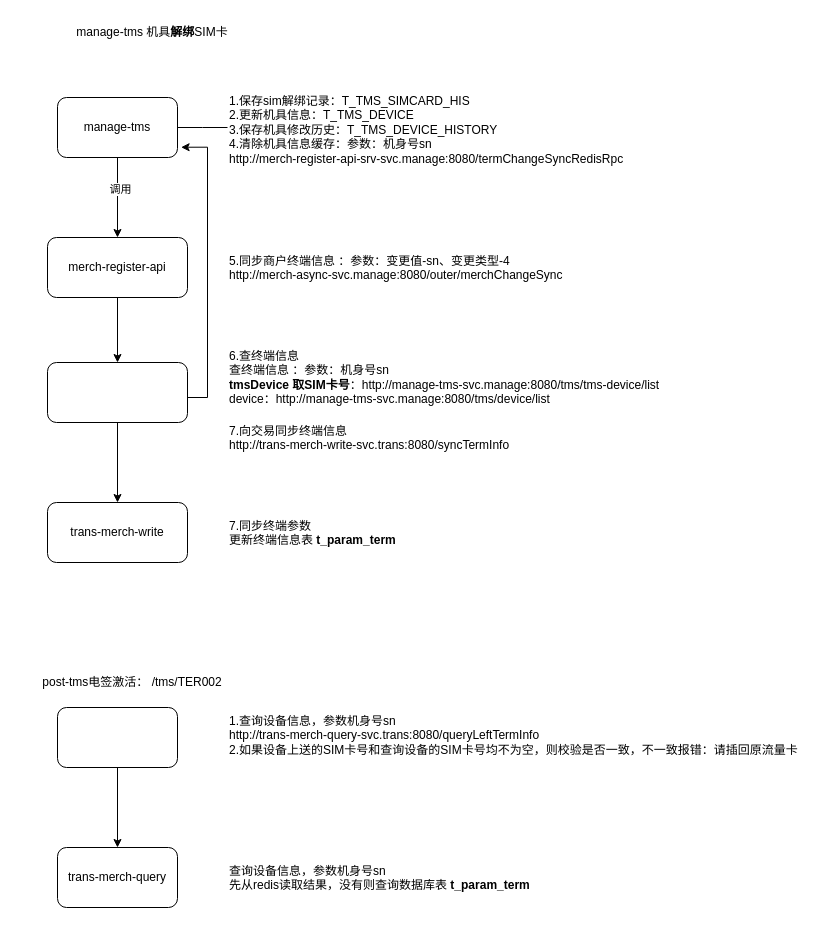
The diagram is 824 pixels wide and 925 high, and some of its shapes have lost their labels. Each missing label, with the centre of its shape:
"merch-async" belongs at pixel 117 392.
"pos-tms" belongs at pixel 117 737.
